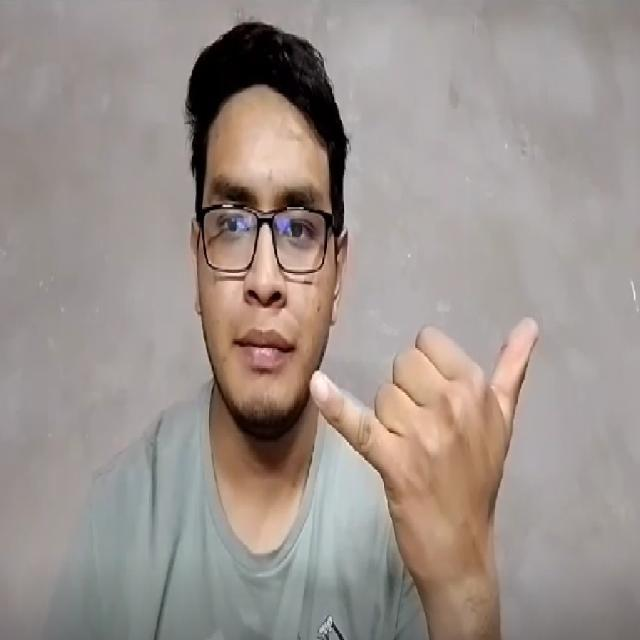Y: (304, 291, 570, 625)
